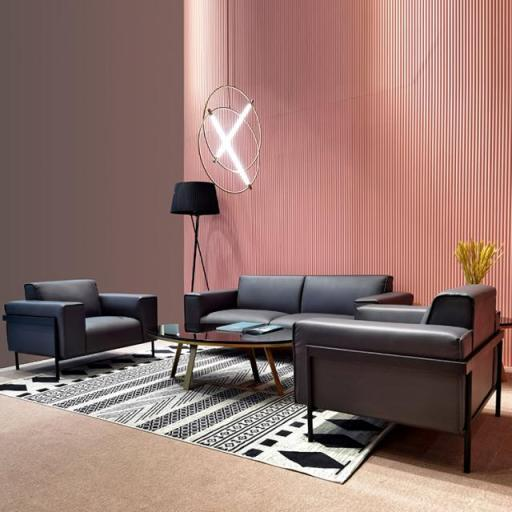sofa: (297, 294, 512, 482), (9, 262, 217, 422)
